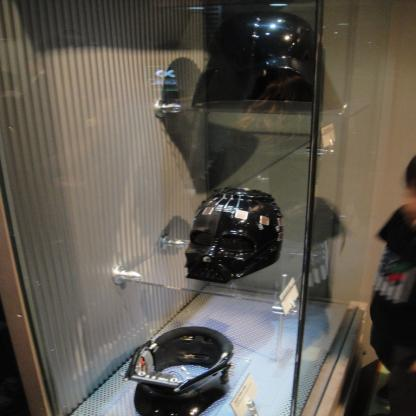Helmet: (172, 191, 288, 289)
